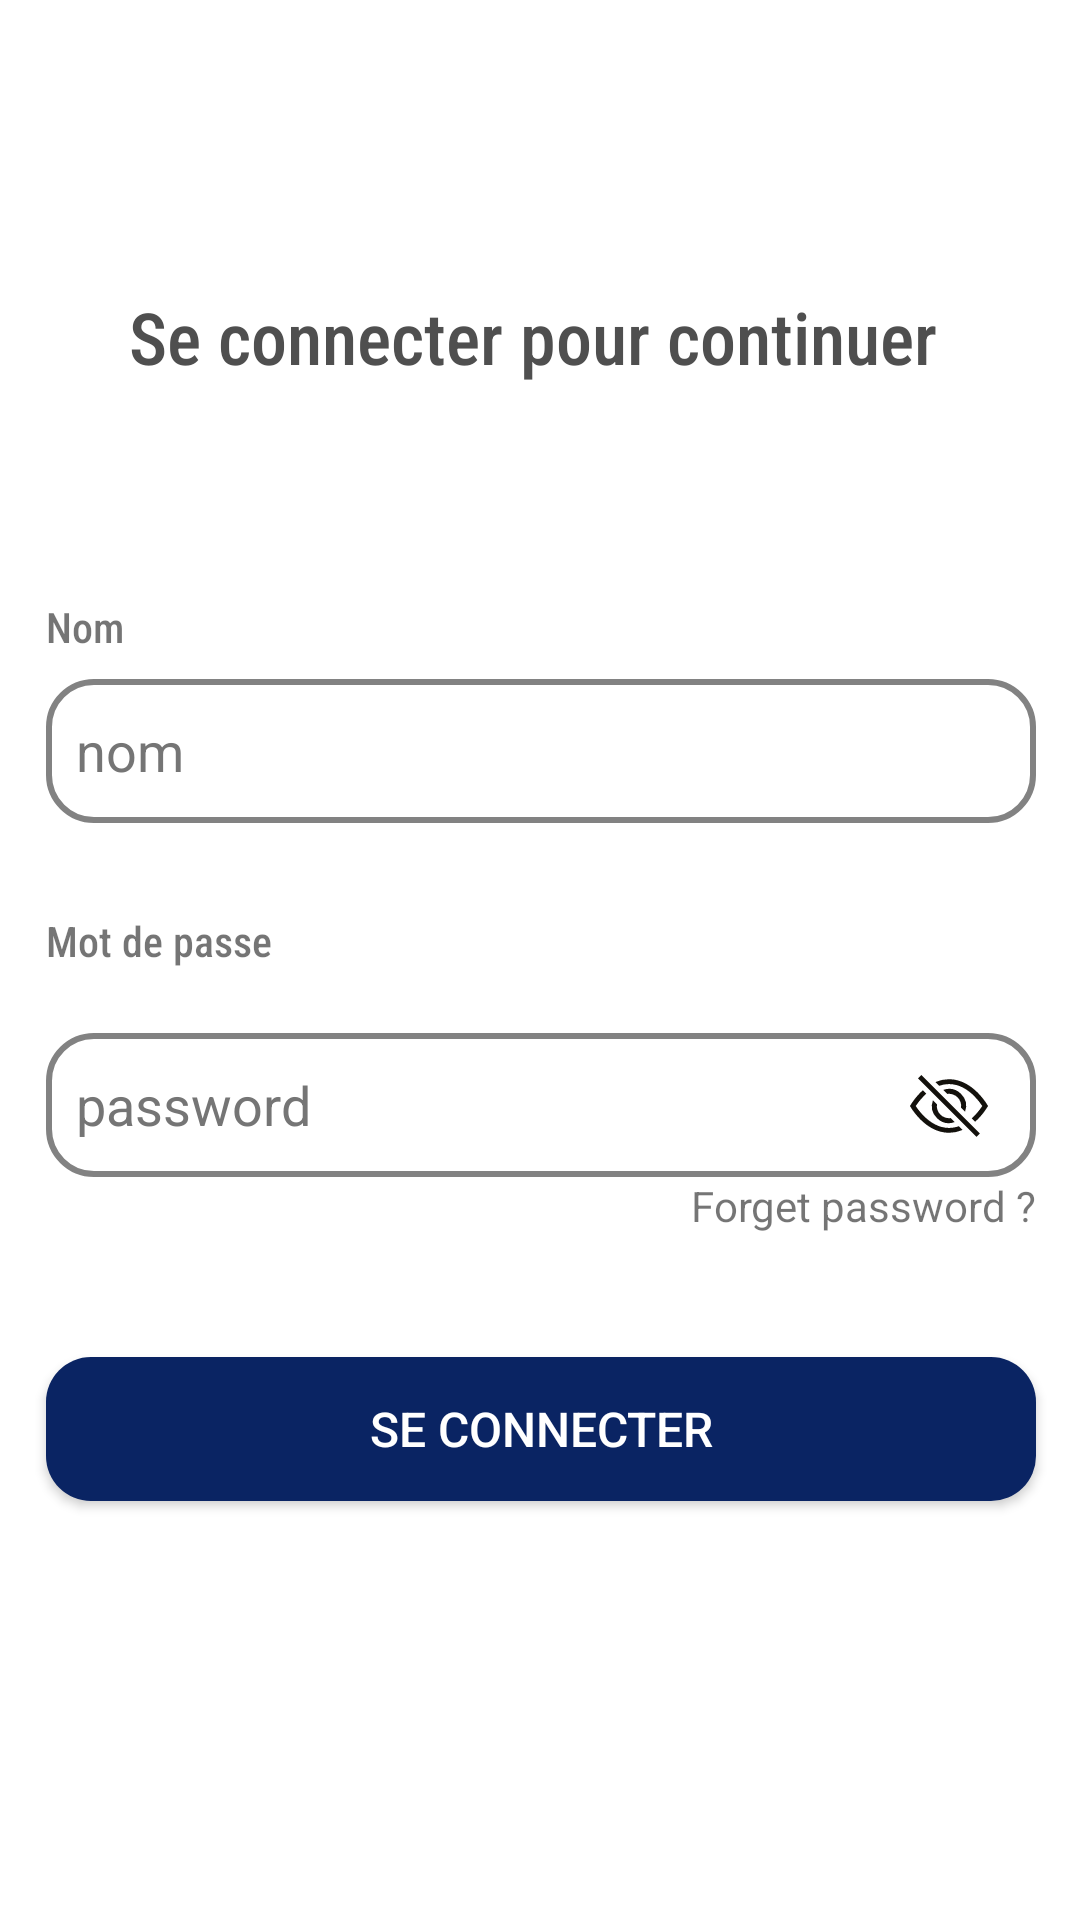

Icons on this 1080×1920 Android screen, each with its box as (x1, y1, x2, y2):
eye slash: (910, 1075, 988, 1137)
